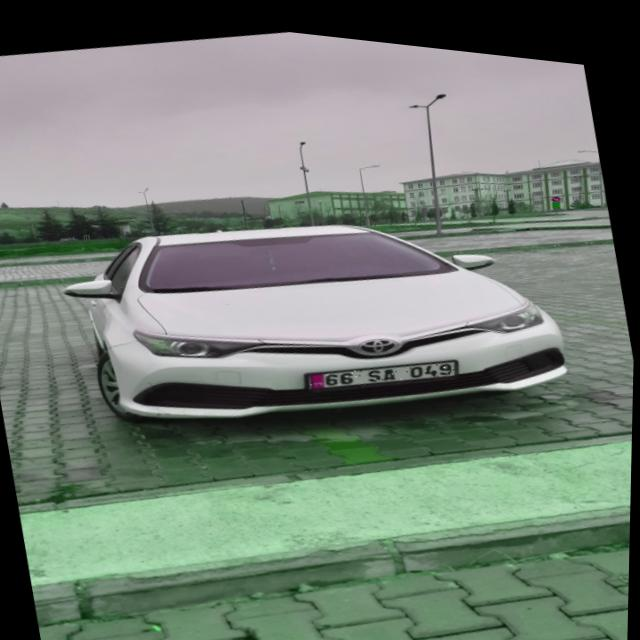license_plate: (308, 338, 461, 394)
